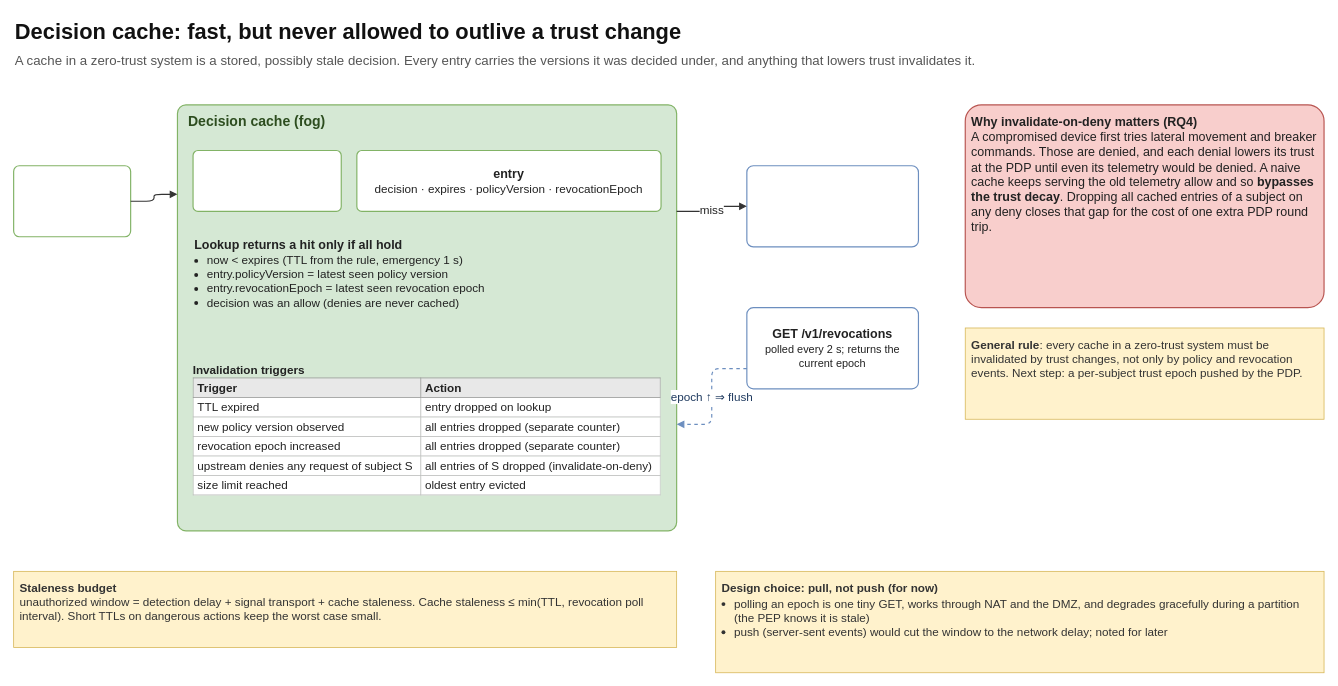
The diagram is 1338 pixels wide and 686 high, and some of its shapes have lost their labels. The shapes that lost their labels are listed below. From the top down, each one's centre as x and y in pixels, then its label:
the point at 72,201: PEP decide(request)
the point at 266,181: key (subject, action, resource)
the point at 832,206: PDP Decision{…, policyVersion, revocationEpoch}
